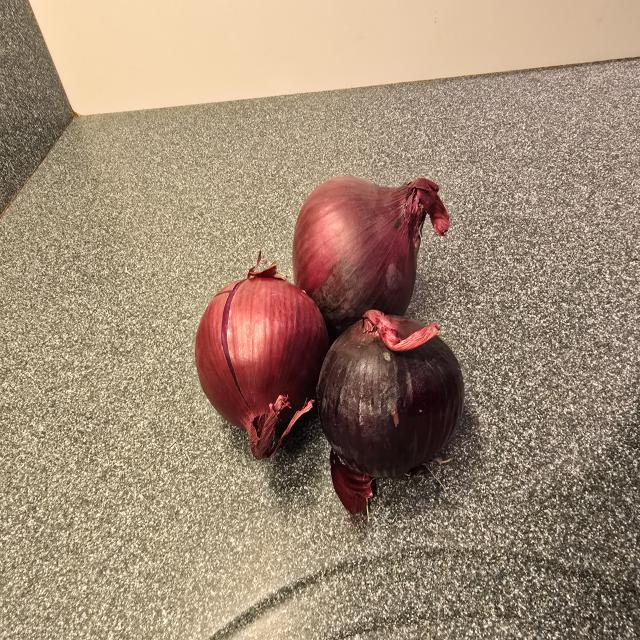Onion: (317, 310, 464, 514), (195, 263, 329, 460), (293, 176, 449, 332)
